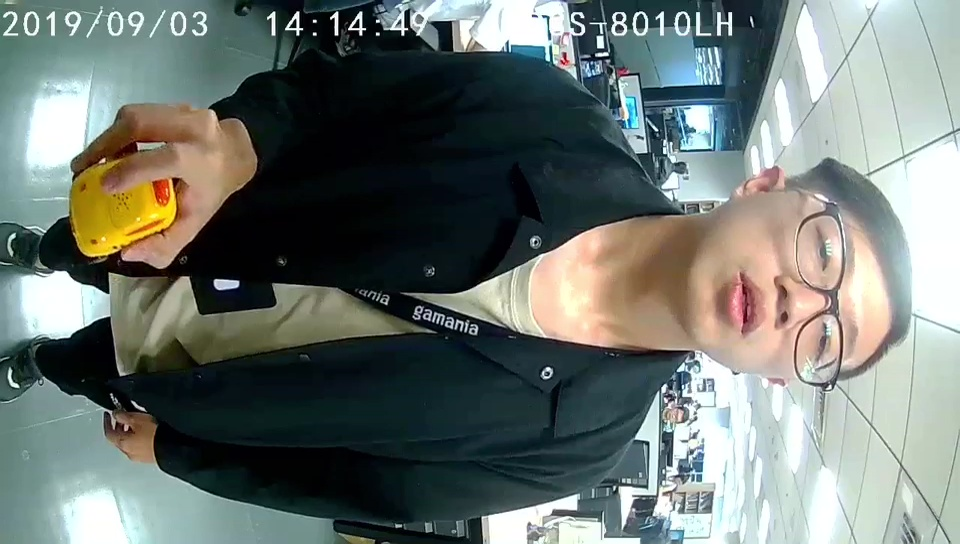car: (68, 154, 175, 258)
